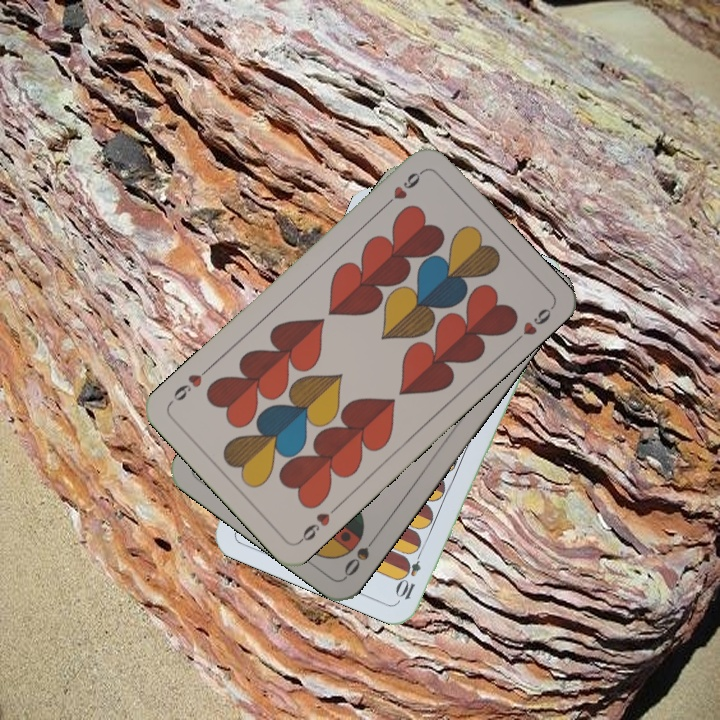E10: (394, 544, 426, 602)
H9: (294, 501, 342, 546), (379, 166, 427, 211)
SO: (340, 529, 382, 580)
